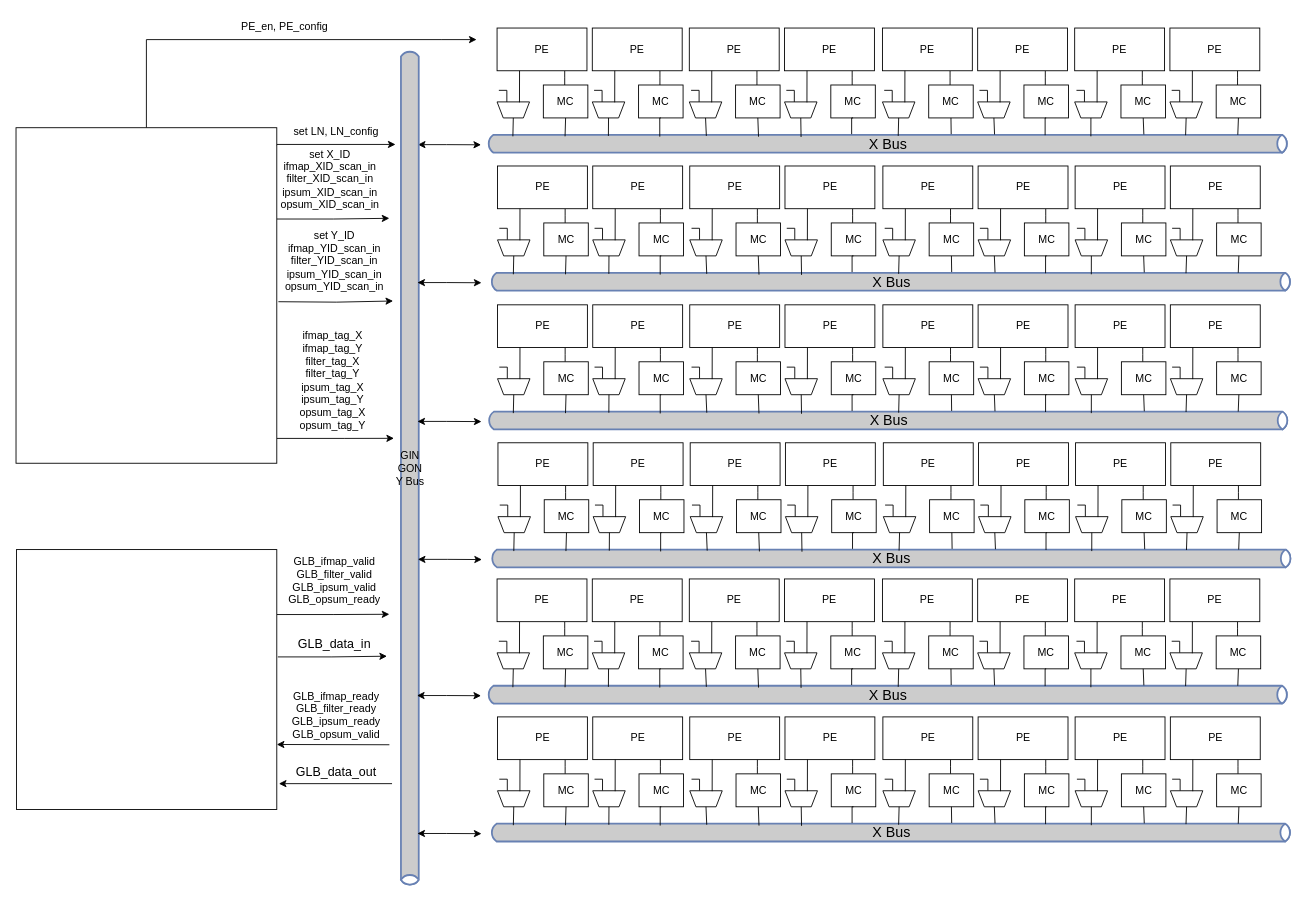
Some shapes in this 1308 by 903 pixel diagram are drawn without their labels. Here are the shapes that lost their labels. From the top down, the centre of each, then its label:
At [146,295]: "Controller".
At [146,679]: "GLB".
